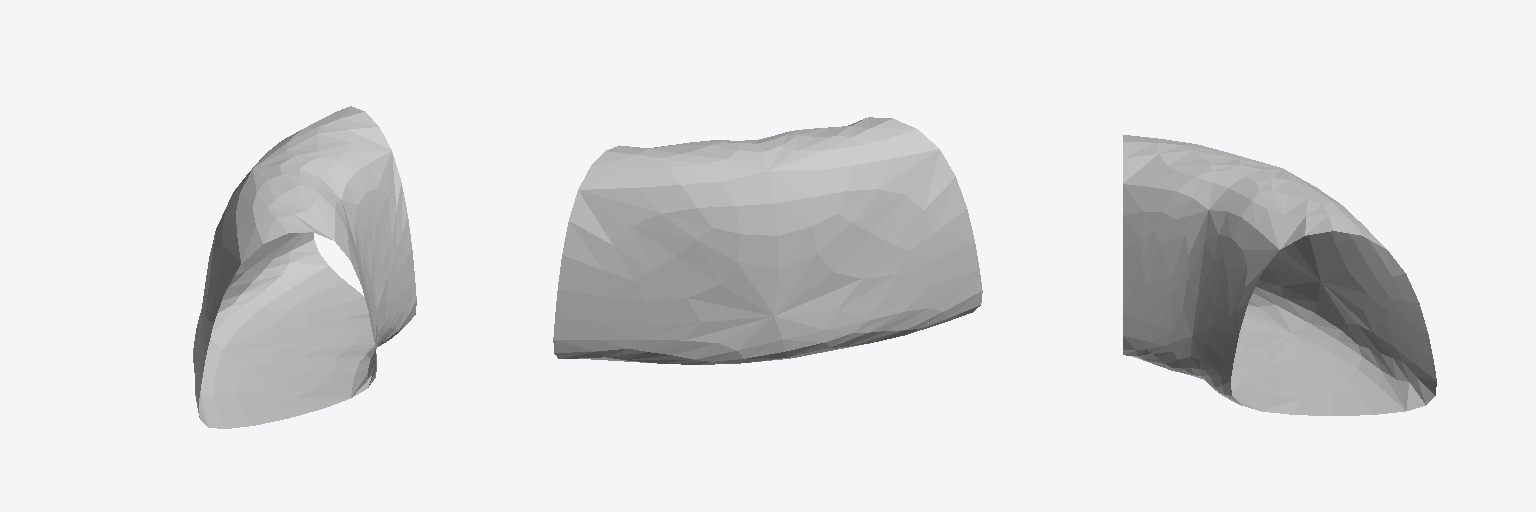
Rendered from cave_902r_0.obj.
3 views of the same model, side by side, from view 1: azimuth 30°, elevation 25°; view 2: azimuth 150°, elevation 25°; view 3: azimuth 270°, elevation 25° (orthographic).
Parts seen in each view (by area): view 1: cave_902r_0_Cube.072; view 2: cave_902r_0_Cube.072; view 3: cave_902r_0_Cube.072.
Part boxes in pixels (bbox=[...]): cave_902r_0_Cube.072: bbox=[193, 106, 416, 428]; cave_902r_0_Cube.072: bbox=[553, 117, 982, 364]; cave_902r_0_Cube.072: bbox=[1123, 135, 1436, 415].
Size of the model in its own units: 8.94 by 5.92 by 8.94.